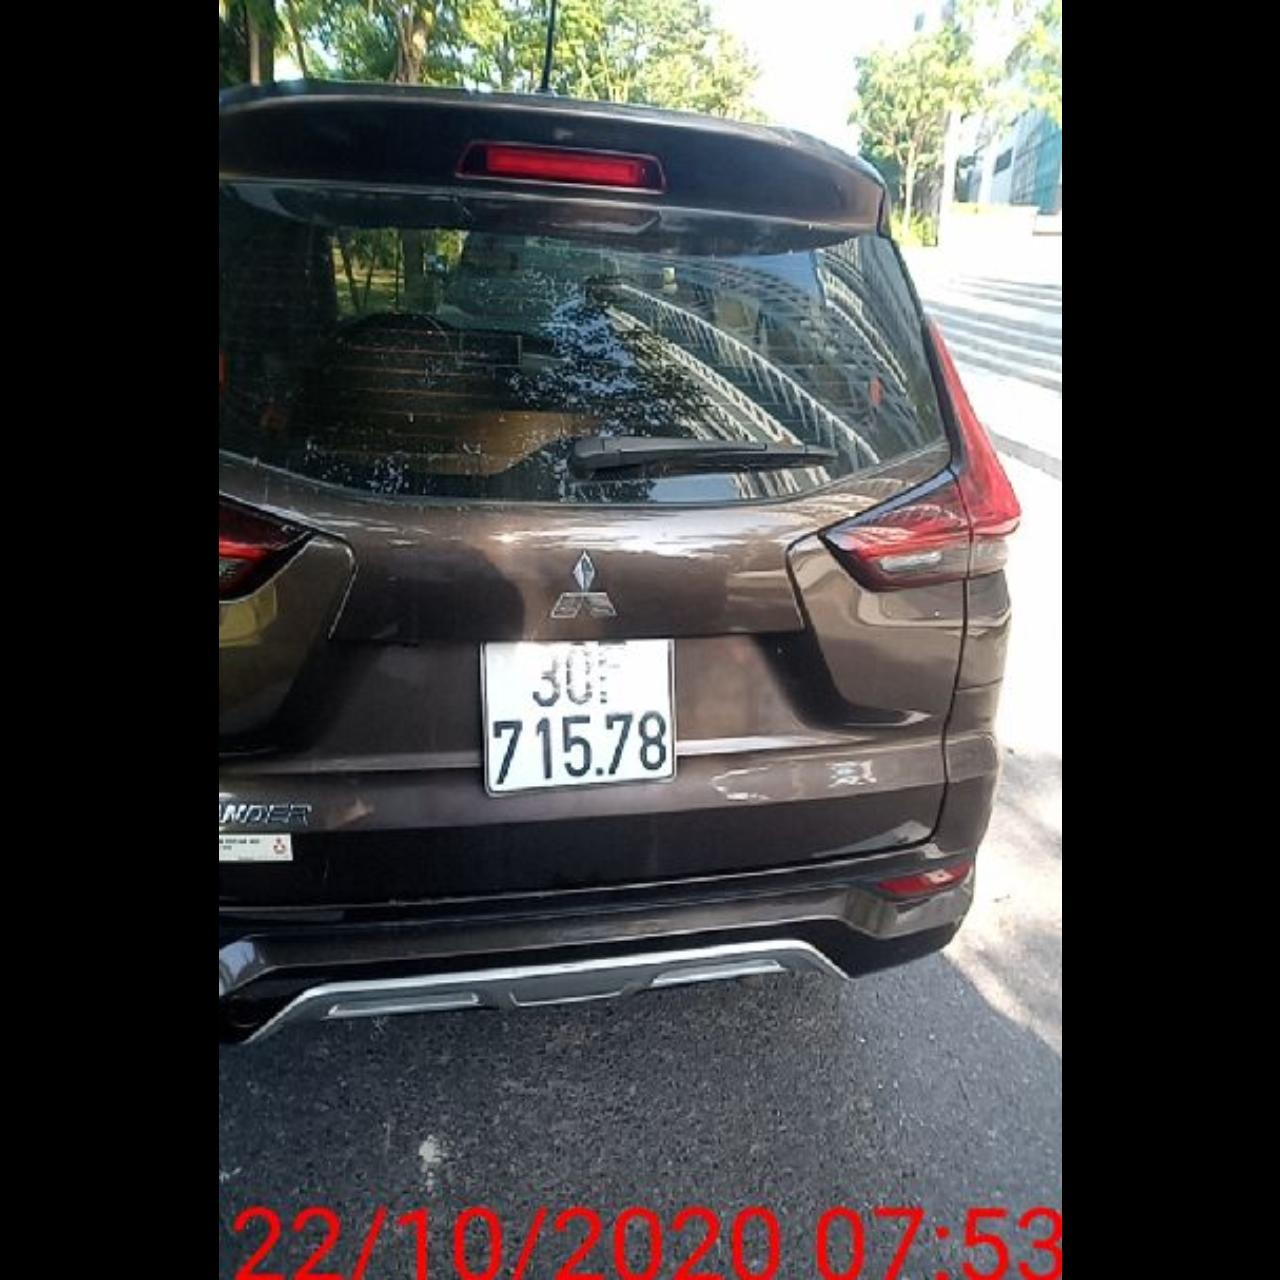bienso: (478, 630, 678, 800)
